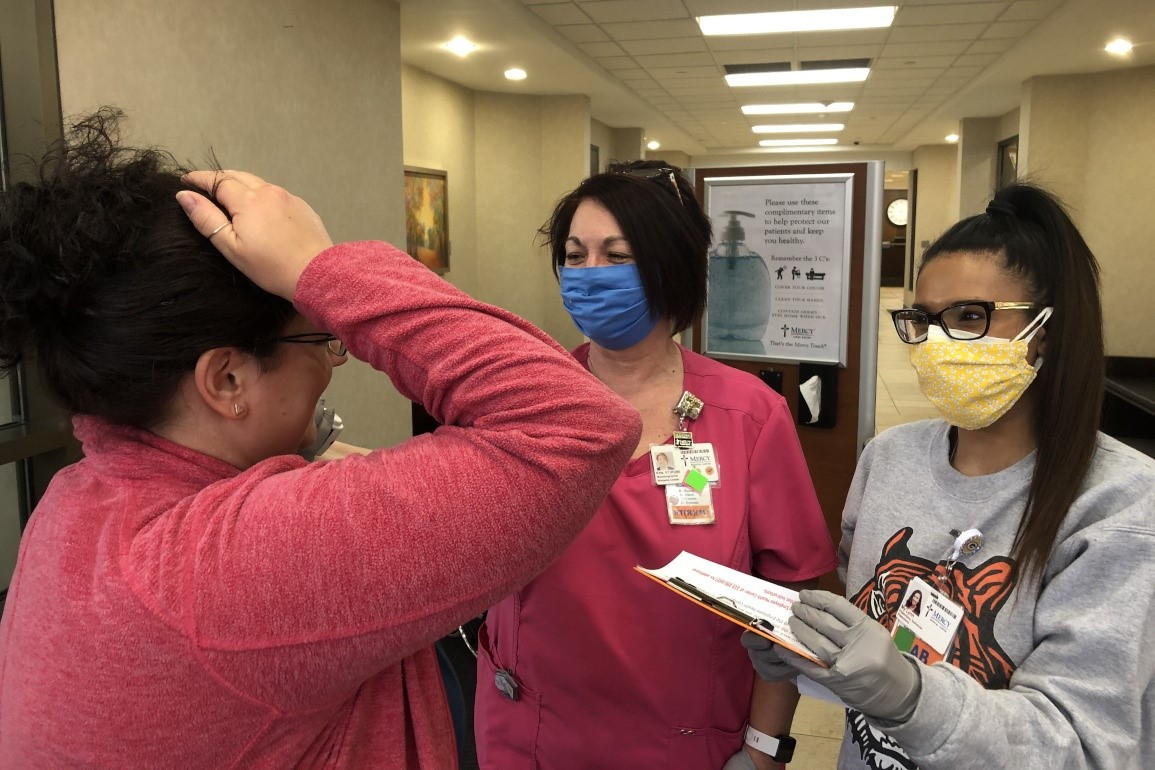face_no_mask: (42, 156, 362, 469)
face_with_mask: (895, 186, 1077, 431), (547, 158, 716, 351)
